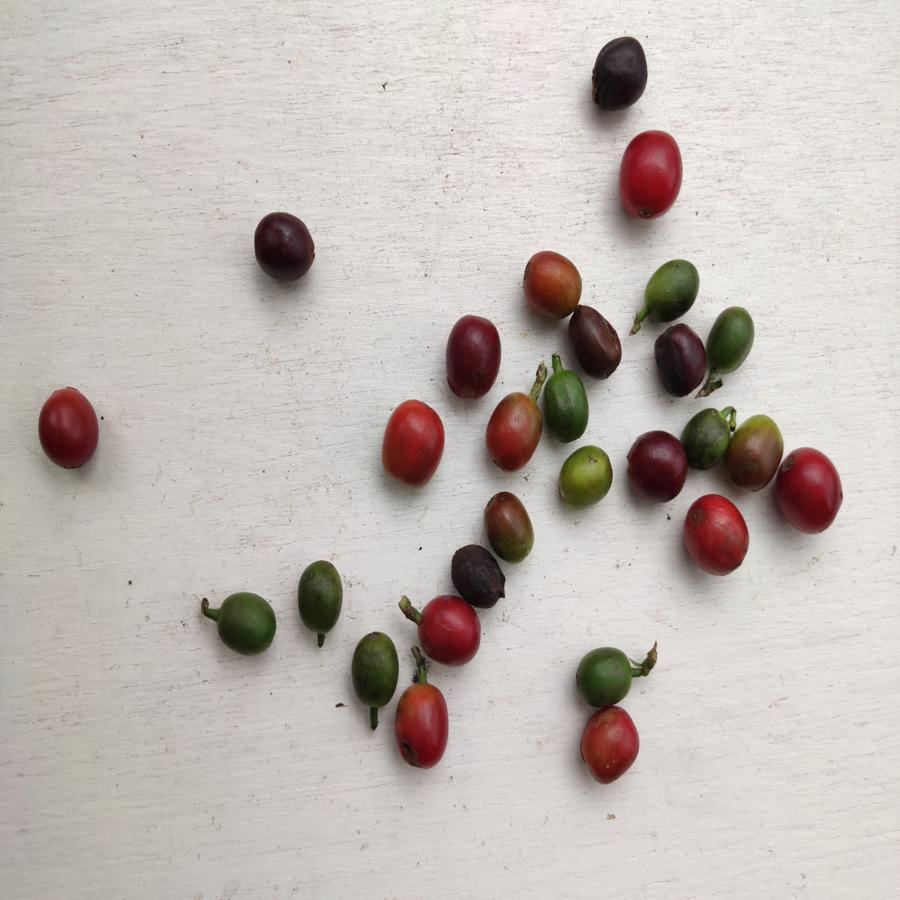Inmaduro: (213, 590, 277, 656), (642, 256, 703, 320), (298, 559, 344, 638), (351, 631, 398, 707), (707, 304, 757, 373), (576, 644, 635, 701), (542, 372, 586, 442), (682, 405, 730, 467)
Maduro: (616, 128, 688, 222), (36, 384, 105, 473), (379, 398, 446, 485), (777, 446, 844, 532), (683, 493, 751, 576), (580, 707, 641, 783), (395, 683, 449, 768), (487, 393, 544, 470), (419, 597, 478, 664)
Pinton: (729, 414, 779, 491), (520, 249, 579, 313), (482, 493, 537, 559), (561, 445, 615, 510)
Sobremaduro: (443, 313, 504, 400), (588, 33, 650, 118), (251, 210, 317, 280), (624, 429, 687, 501), (654, 324, 712, 400), (571, 303, 623, 380), (450, 544, 504, 607)
